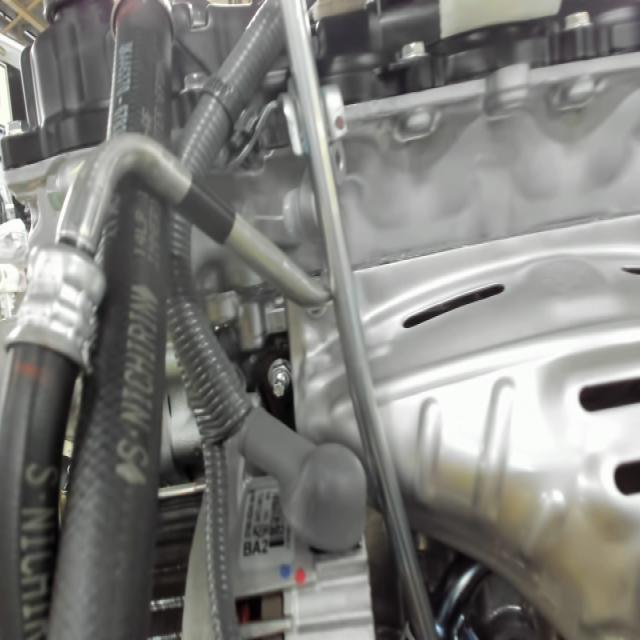Alternator-BA2: (238, 530, 290, 567)
Hose Discharge-HT: (166, 167, 238, 253)
